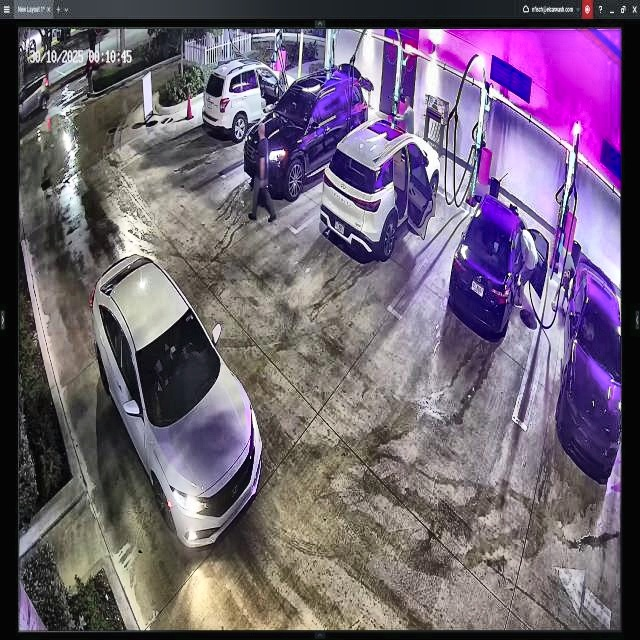Car: (89, 254, 262, 550), (323, 112, 438, 260), (245, 64, 368, 202), (450, 196, 550, 336), (202, 64, 296, 145)
